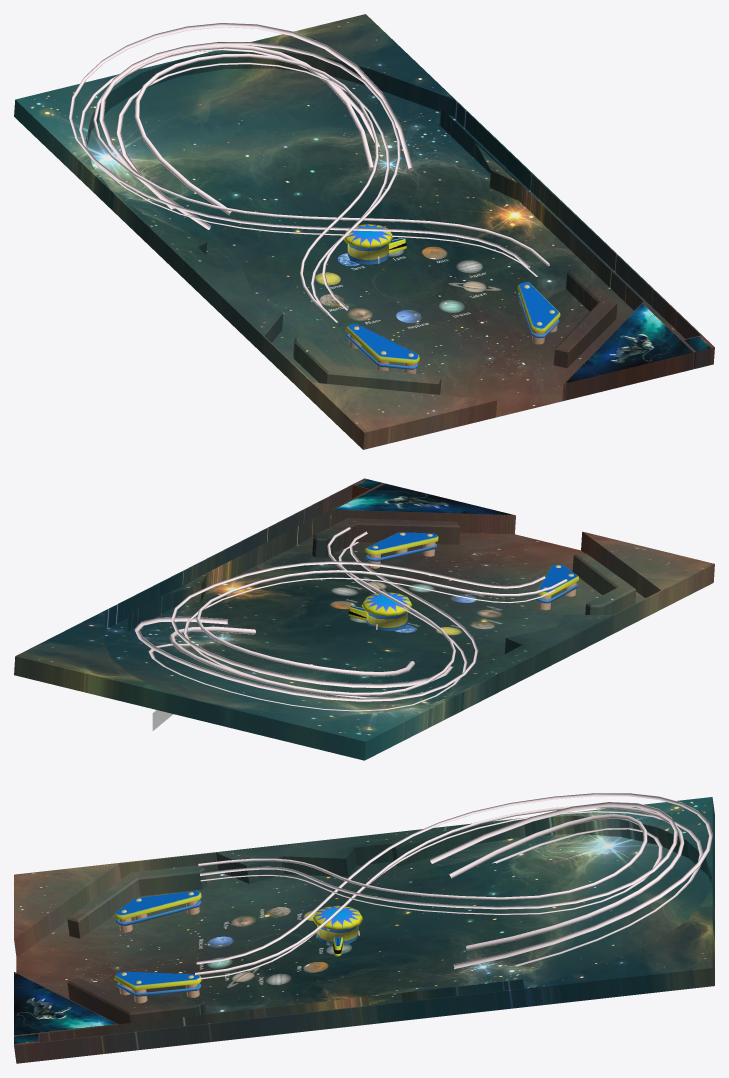
The model's file is pinball.gltf.
3 renders of one model, top to bottom at view 1: azimuth 30°, elevation 25°; view 2: azimuth 150°, elevation 25°; view 3: azimuth 270°, elevation 25°, orthographic.
Parts seen in each view (by area): view 1: Plane.023, ramp-right, ramp-left, left_damper, right_damper, bumper; view 2: Plane.023, ramp-left, ramp-right, right_damper, bumper, left_damper; view 3: Plane.023, ramp-right, ramp-left, right_damper, left_damper, bumper.
Part boxes in pixels (x1,y1,x2,y2): Plane.023: [14, 14, 714, 449]; ramp-right: [69, 23, 549, 276]; ramp-left: [99, 42, 400, 322]; left_damper: [345, 324, 419, 373]; right_damper: [517, 282, 560, 344]; bumper: [344, 224, 393, 264]; Plane.023: [14, 478, 714, 760]; ramp-left: [171, 561, 567, 698]; ramp-right: [134, 527, 478, 711]; right_damper: [364, 532, 438, 568]; bumper: [361, 592, 412, 630]; left_damper: [536, 564, 579, 610]; Plane.023: [14, 797, 714, 1063]; ramp-right: [195, 793, 712, 979]; ramp-left: [198, 802, 678, 914]; right_damper: [114, 971, 201, 1003]; left_damper: [114, 890, 201, 932]; bumper: [312, 905, 363, 945].
Size of the model in its own units: 0.6015 by 0.2095 by 1.03.
Materials: 5 (5 with a texture image).
